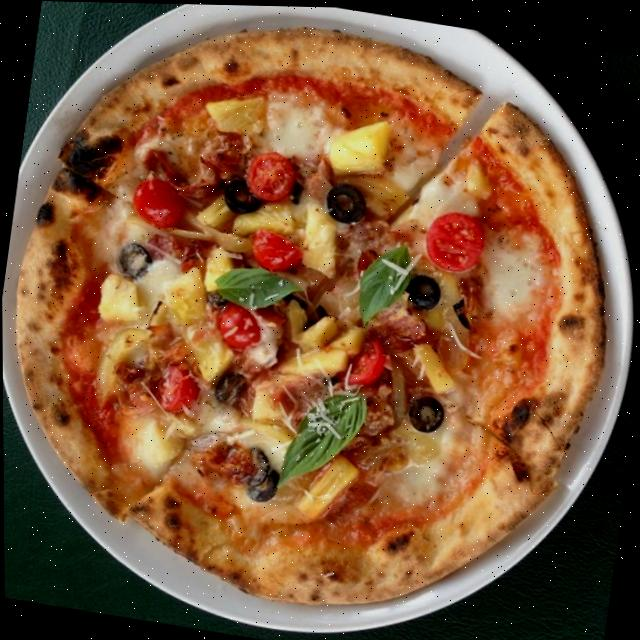basil: (270, 371, 376, 504), (349, 232, 418, 334), (212, 262, 299, 315)
black_olives: (320, 178, 372, 227), (240, 444, 283, 502), (405, 389, 448, 435), (217, 173, 264, 215), (403, 269, 445, 313), (114, 239, 155, 282), (209, 368, 250, 409), (296, 295, 330, 331), (449, 293, 476, 329), (284, 173, 309, 208), (208, 287, 232, 311)
pizza: (0, 0, 640, 640)
tomatoes: (421, 204, 491, 276), (328, 330, 391, 398), (123, 172, 190, 233), (207, 294, 271, 353), (147, 354, 204, 417), (244, 146, 301, 205), (242, 224, 307, 275)
